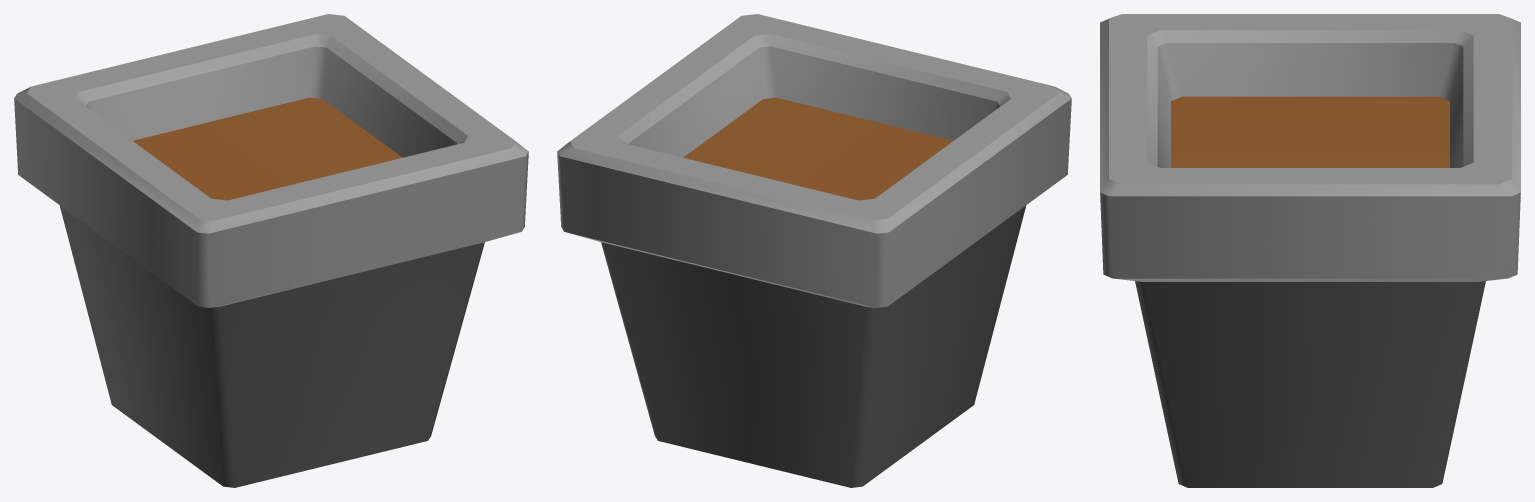
File: PlantPot_1_B.fbx
3 views of the same model, side by side, from view 1: azimuth 30°, elevation 25°; view 2: azimuth 150°, elevation 25°; view 3: azimuth 270°, elevation 25° (orthographic). The views are drawn at different scales.
Visible parts, largest first — view 1: PlantPot_1_B; view 2: PlantPot_1_B; view 3: PlantPot_1_B.
Part boxes in pixels (x1=…): PlantPot_1_B: x1=14, y1=14, x2=528, y2=487; PlantPot_1_B: x1=557, y1=14, x2=1071, y2=487; PlantPot_1_B: x1=1100, y1=14, x2=1520, y2=487.
Bounding box in the file's own units: 27.48 × 24 × 27.48.
